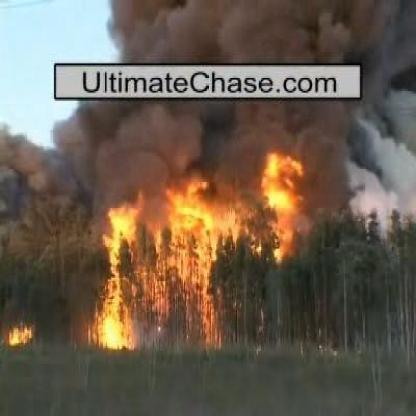-: (58, 104, 367, 196), (108, 5, 358, 58)
foggia-v2-map80-epoch100 - v1 4323: (101, 290, 130, 348)
